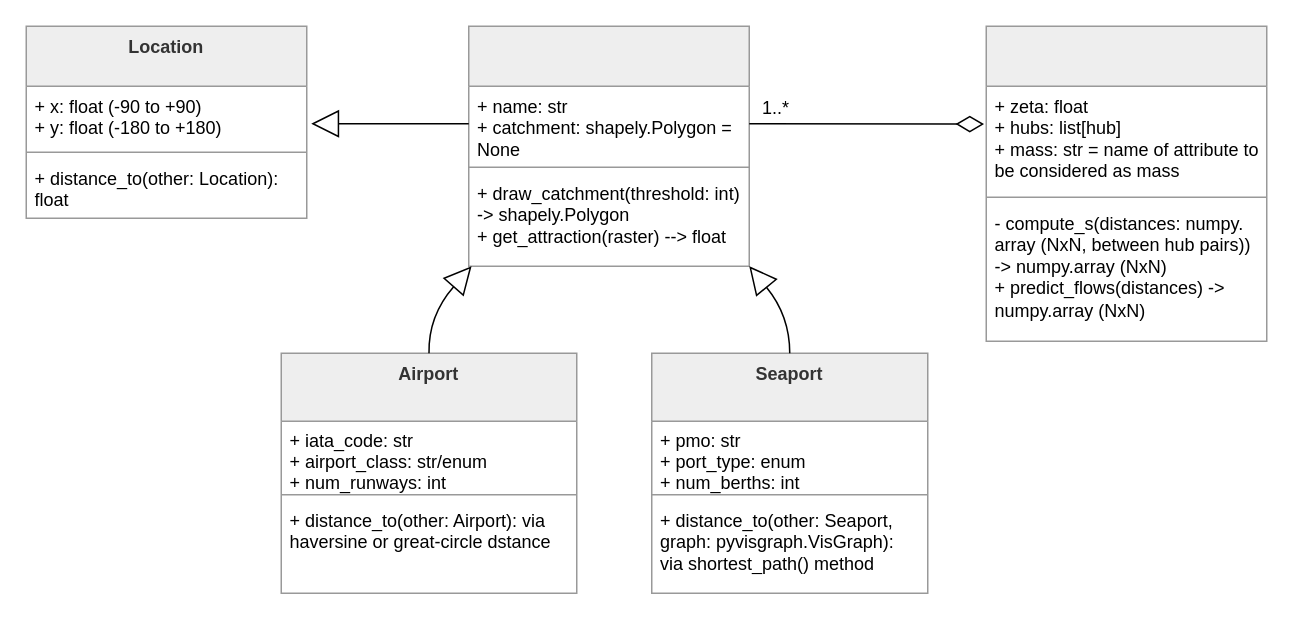
Some shapes in this 1293 by 624 pixel diagram are drawn without their labels. The shapes that lost their labels are listed below. From the top down, each one's box as (x1, y1, x2, y2) in pixels, then its label:
(467, 25, 749, 266): Hub
(985, 25, 1267, 341): RadiationModel
